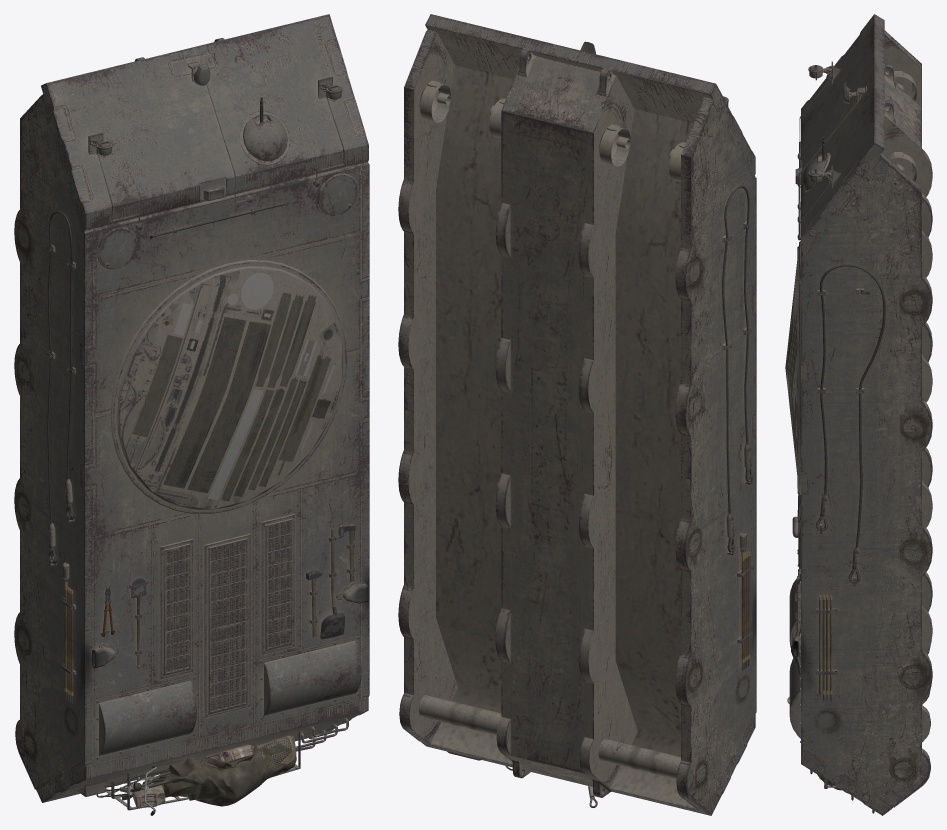
File: Hull.glb
3 views of the same model, side by side, from view 1: azimuth 30°, elevation 25°; view 2: azimuth 150°, elevation 25°; view 3: azimuth 270°, elevation 25° (orthographic). The views are drawn at different scales.
Visible parts, largest first — view 1: set_0_group_0, set_0_group_1; view 2: set_0_group_0; view 3: set_0_group_0.
Boxes of the visible parts, <box> form: set_0_group_0: <box>14,14,369,815</box>; set_0_group_1: <box>132,736,296,808</box>; set_0_group_0: <box>398,14,756,815</box>; set_0_group_0: <box>785,14,932,815</box>.
Bounding box in the file's own units: 3.9 × 9.19 × 1.78.
Materials: 2 (2 with a texture image).
